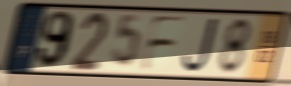2: (70, 9, 111, 73)
5: (110, 12, 145, 73)
8: (217, 16, 252, 76)
9: (35, 8, 78, 71)
F: (137, 14, 189, 74)
J: (180, 15, 222, 75)
